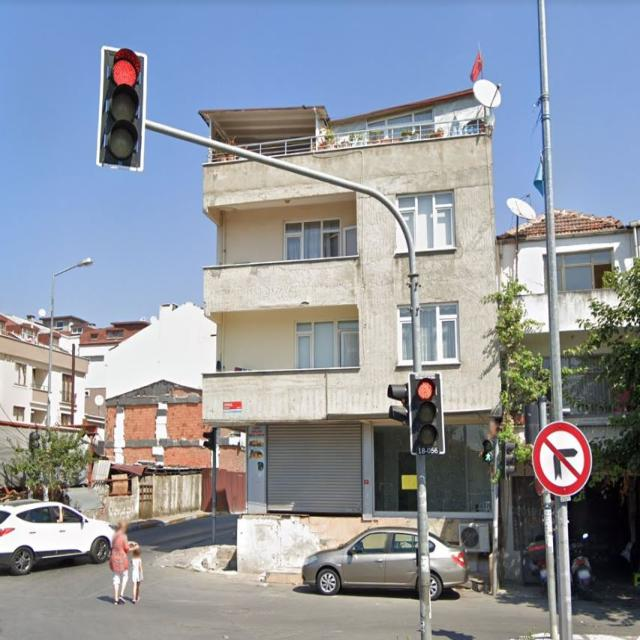kirmizi: (99, 45, 143, 168), (408, 372, 444, 453)
sagadonulmez: (532, 422, 592, 496)
